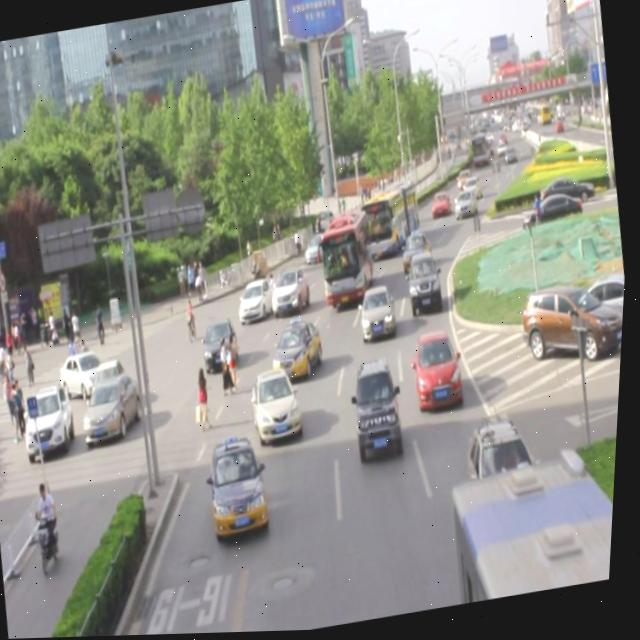car: (210, 436, 275, 541), (468, 415, 541, 508), (351, 357, 410, 460), (412, 329, 471, 414), (251, 364, 308, 445), (271, 318, 329, 385), (407, 252, 448, 319), (266, 257, 313, 314), (358, 285, 400, 344), (202, 312, 243, 370), (236, 272, 278, 318), (400, 230, 437, 277)
van: (451, 452, 621, 607), (317, 210, 381, 309), (359, 184, 426, 256)
